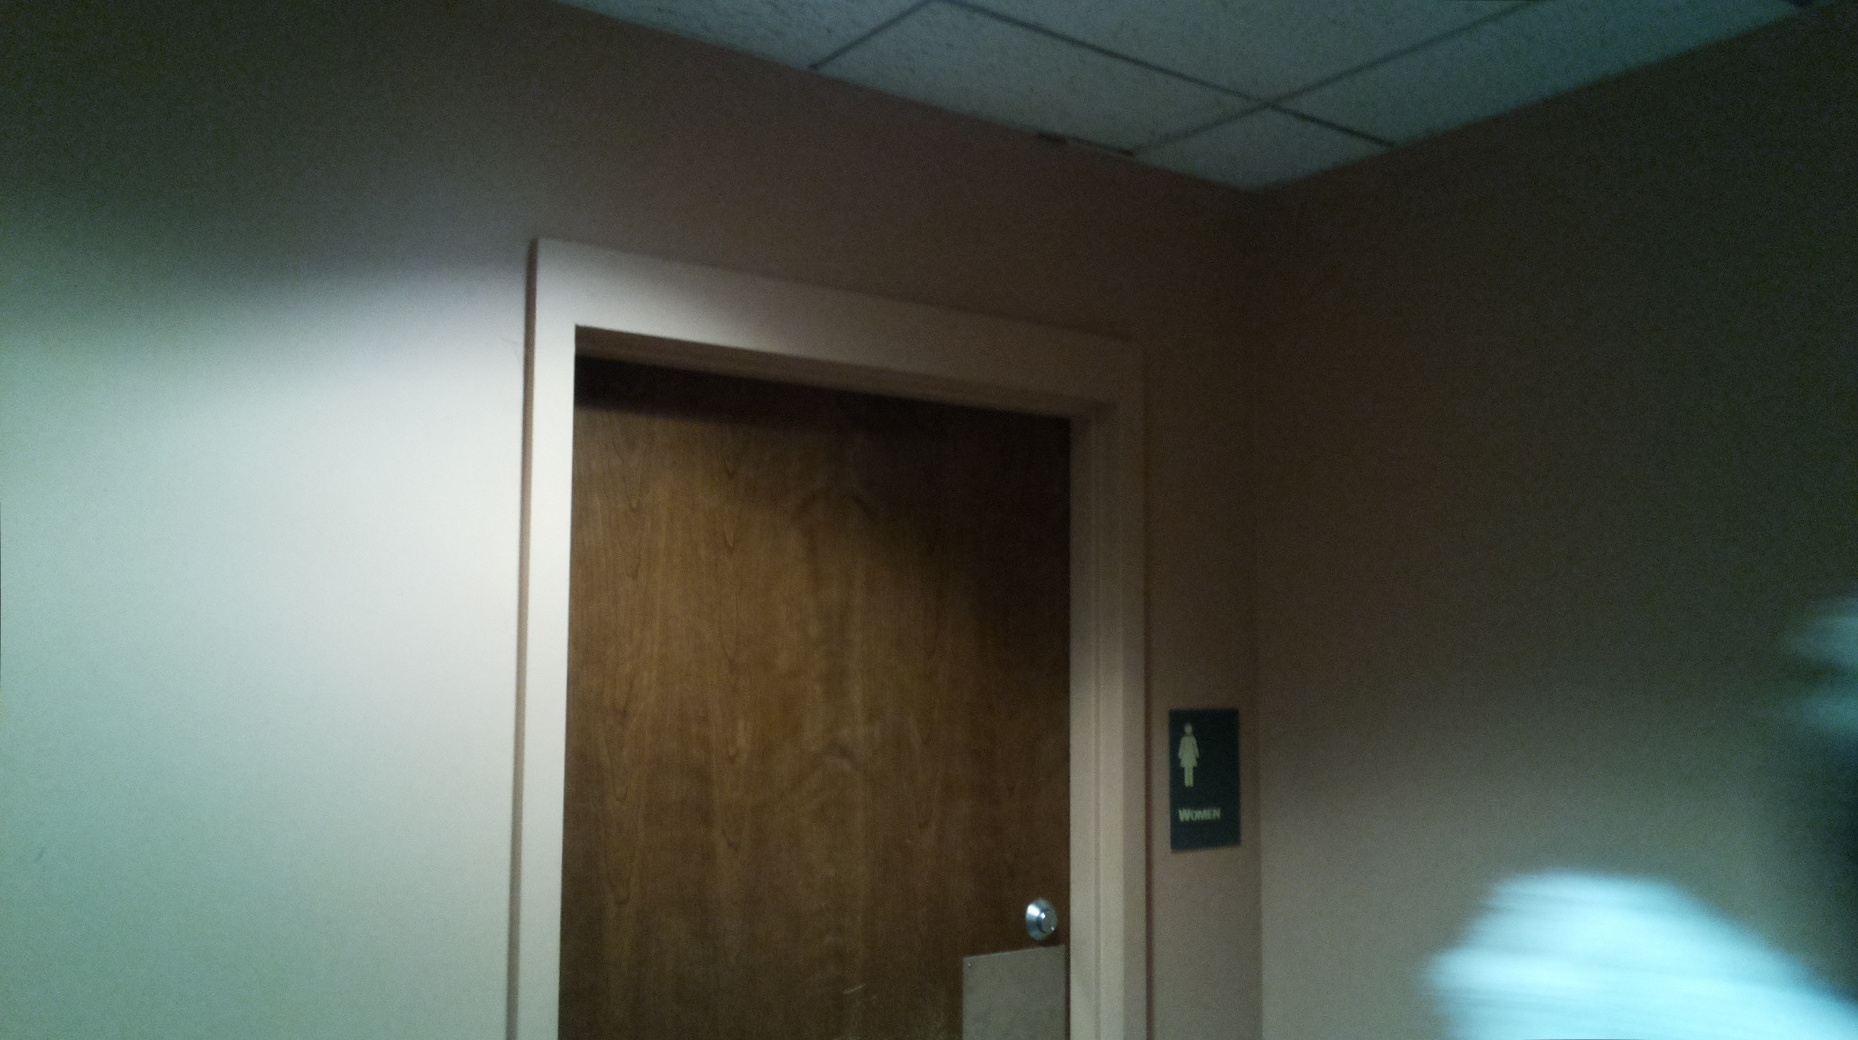bathroom sign: (1160, 699, 1249, 860)
